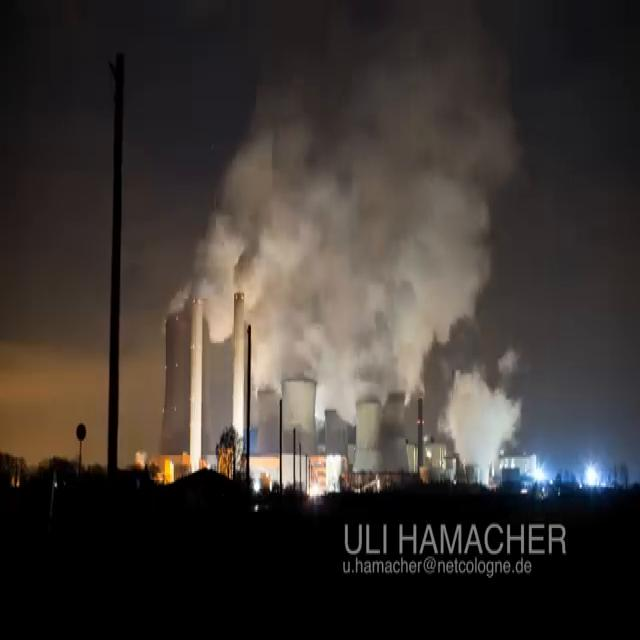smoke: (168, 0, 523, 412), (443, 373, 520, 480)
